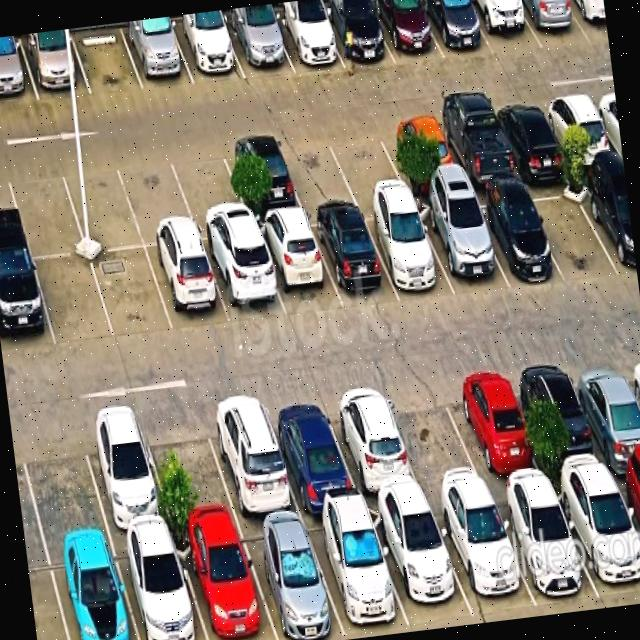empty: (379, 373, 488, 500), (139, 406, 238, 530), (15, 416, 109, 546), (522, 175, 620, 278), (167, 141, 253, 240), (58, 156, 144, 252), (116, 150, 199, 246), (4, 161, 86, 257), (90, 247, 173, 340), (33, 254, 114, 347), (275, 128, 357, 208), (325, 122, 407, 199), (70, 24, 143, 94)
occupied: (303, 508, 410, 639), (490, 485, 599, 607), (429, 492, 536, 616), (237, 518, 345, 640), (367, 503, 474, 625), (443, 365, 547, 490), (201, 392, 301, 521), (321, 381, 425, 501), (76, 410, 173, 536), (261, 391, 361, 513), (514, 357, 611, 481), (173, 524, 276, 640), (551, 474, 640, 605), (112, 531, 207, 640), (466, 188, 562, 287), (414, 196, 510, 295), (253, 213, 342, 318), (46, 539, 138, 640), (307, 206, 398, 307), (360, 202, 454, 298), (566, 352, 640, 473), (146, 241, 231, 332), (202, 236, 286, 324), (432, 107, 519, 188), (220, 134, 303, 217), (576, 170, 637, 275), (379, 115, 463, 190), (490, 98, 569, 175), (539, 92, 618, 167), (0, 255, 55, 354), (318, 0, 394, 68), (120, 20, 194, 89), (169, 17, 245, 84), (19, 30, 90, 100), (269, 7, 344, 72), (370, 0, 444, 64), (223, 12, 293, 78), (466, 0, 542, 56), (420, 0, 493, 58), (516, 0, 590, 48), (0, 36, 38, 105), (611, 468, 640, 541), (567, 0, 608, 41)
